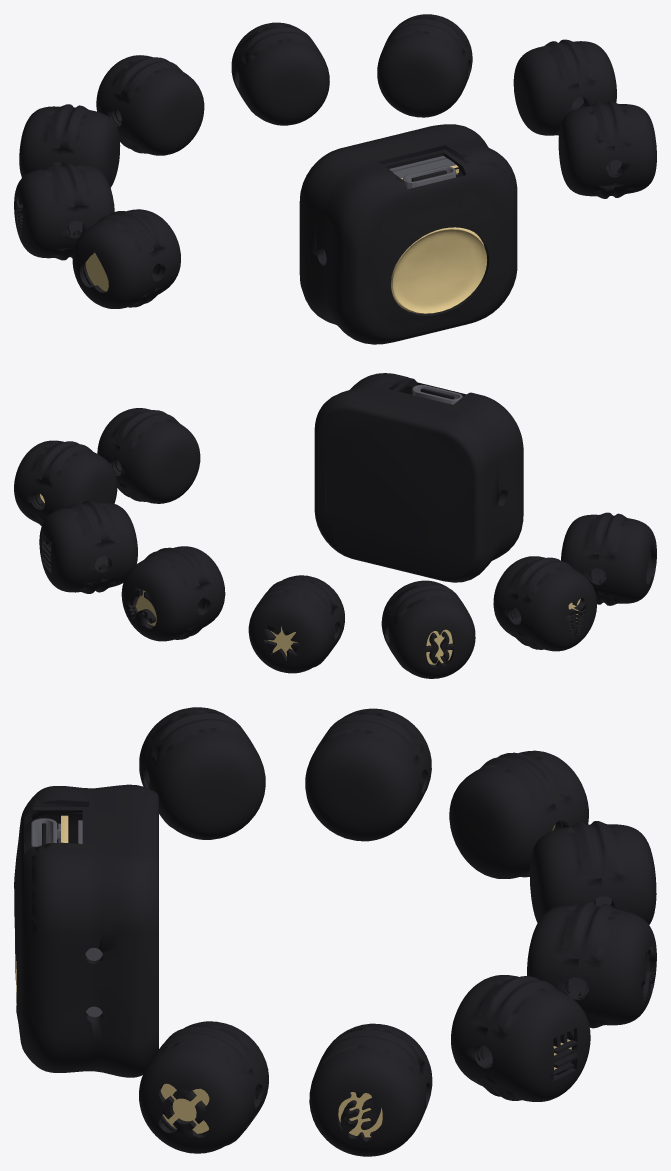
File: bracelet_assembled.glb
3 renders of one model, top to bottom at view 1: azimuth 30°, elevation 25°; view 2: azimuth 150°, elevation 25°; view 3: azimuth 270°, elevation 25°, orthographic. The views are drawn at different scales.
Parts seen in each view (by area): view 1: Makoma_bracelet_arranged; view 2: Makoma_bracelet_arranged; view 3: Makoma_bracelet_arranged.
Part boxes in pixels (x1,y1,x2,y2): Makoma_bracelet_arranged: [14, 14, 656, 344]; Makoma_bracelet_arranged: [14, 373, 656, 678]; Makoma_bracelet_arranged: [14, 707, 656, 1156].
Size of the model in its own units: 10.54 by 2.89 by 7.72.
